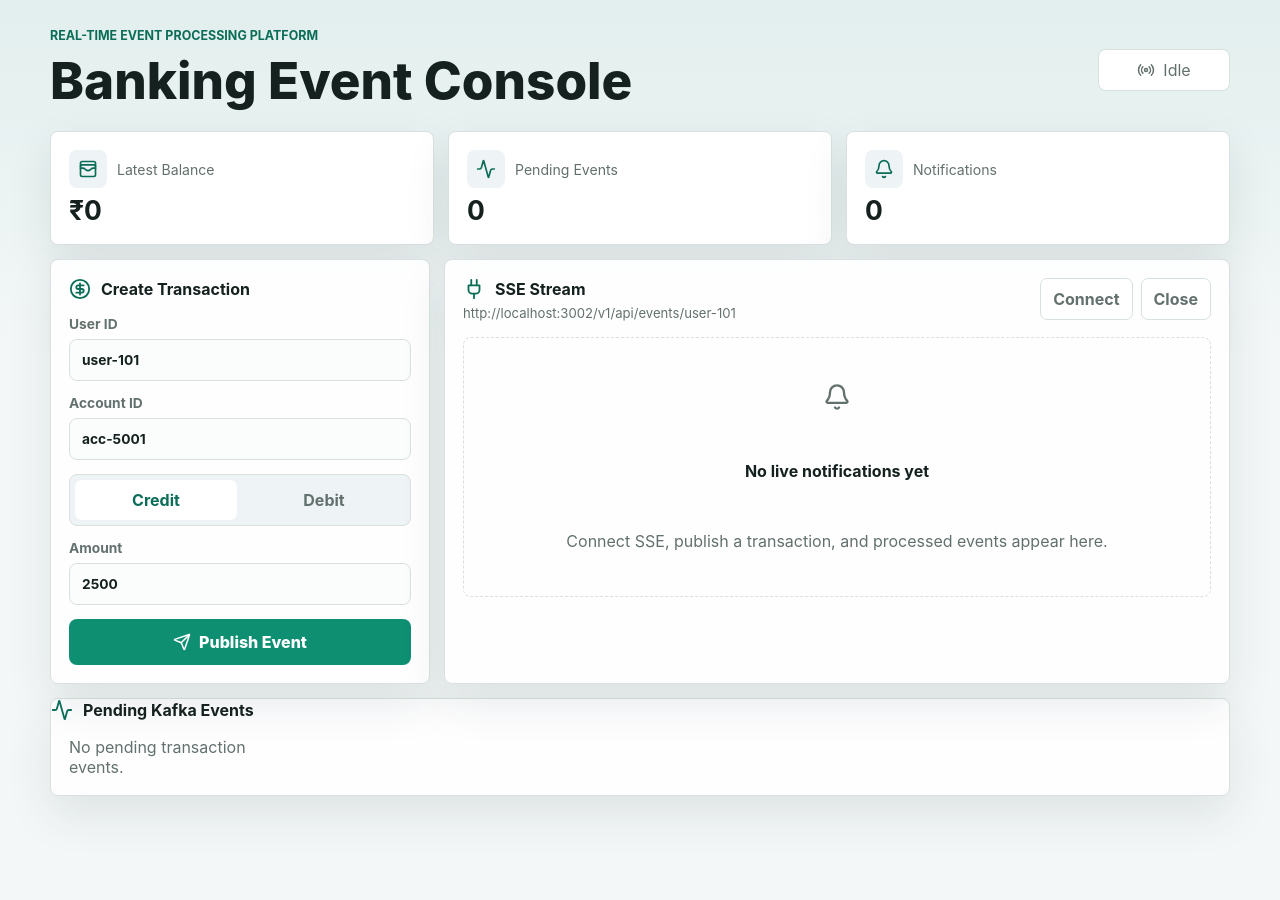
Banking Event Console › publishes a transaction request and shows it as pending
Step 1. Click the button "Publish Event" → (240, 642), box [69,619,411,665]
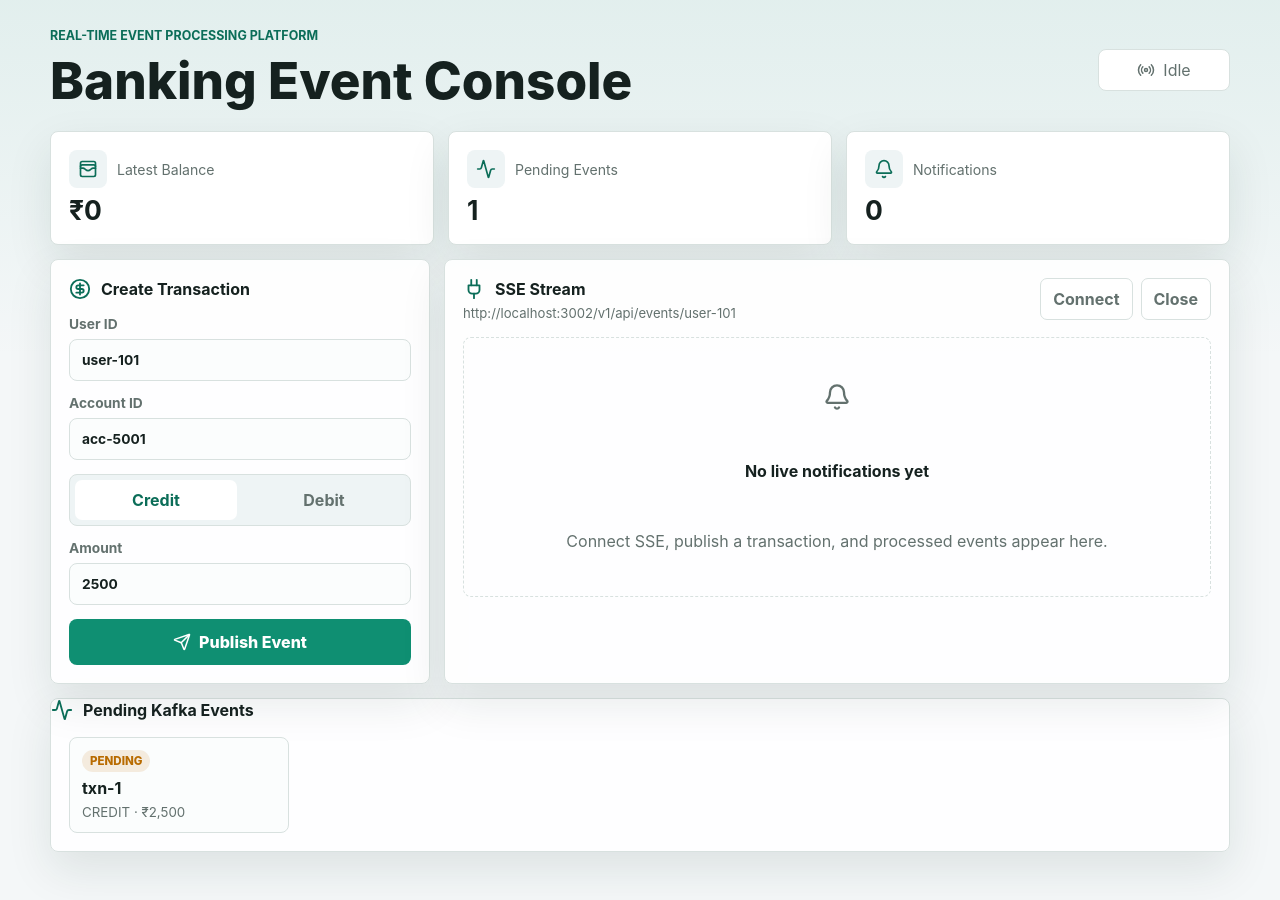
Check: the text "txn-1" is shown, box [82,778,122,798]
